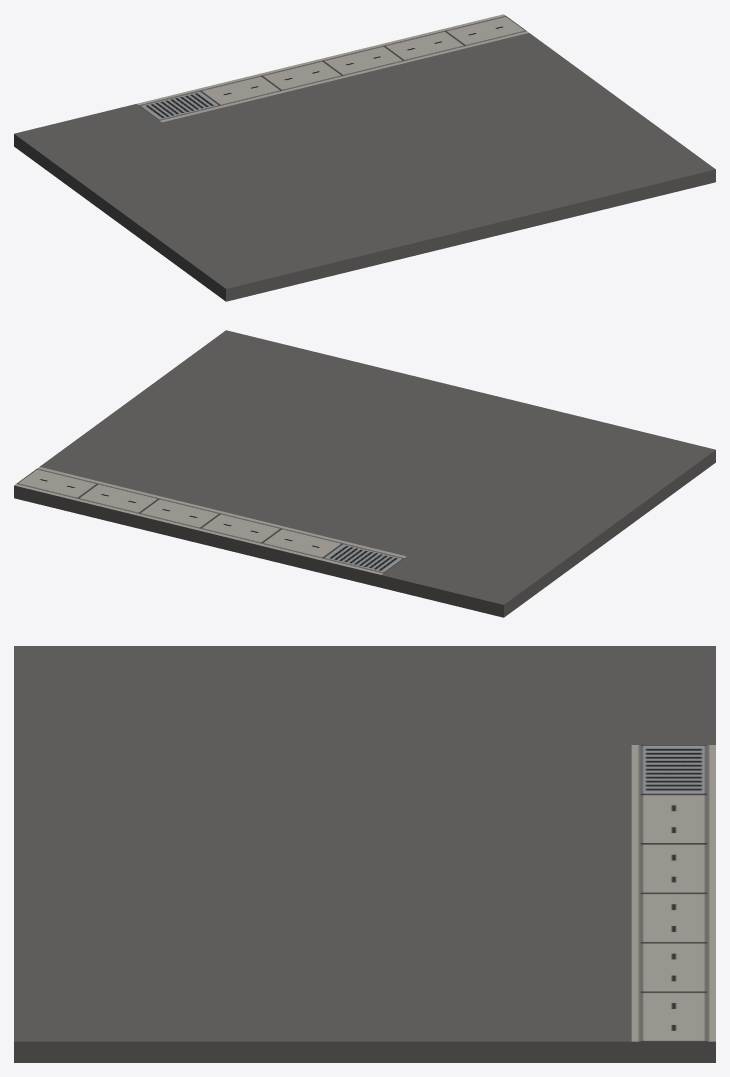
Rendered from SM_Ground_AlleyMouth_300x400_R100_L_01.fbx.
3 views of the same model, one above another, from view 1: azimuth 30°, elevation 25°; view 2: azimuth 150°, elevation 25°; view 3: azimuth 270°, elevation 25° (orthographic). The views are drawn at different scales.
Visible parts, largest first — view 1: SM_Ground_AlleyMouth_300x400_R100_L_01; view 2: SM_Ground_AlleyMouth_300x400_R100_L_01; view 3: SM_Ground_AlleyMouth_300x400_R100_L_01.
Boxes of the visible parts, bbox=[...] form: SM_Ground_AlleyMouth_300x400_R100_L_01: bbox=[14, 14, 715, 301]; SM_Ground_AlleyMouth_300x400_R100_L_01: bbox=[14, 330, 715, 617]; SM_Ground_AlleyMouth_300x400_R100_L_01: bbox=[14, 646, 715, 1062].
Bounding box in the file's own units: 4 × 0.1 × 3.
1 material, 1 textured.
